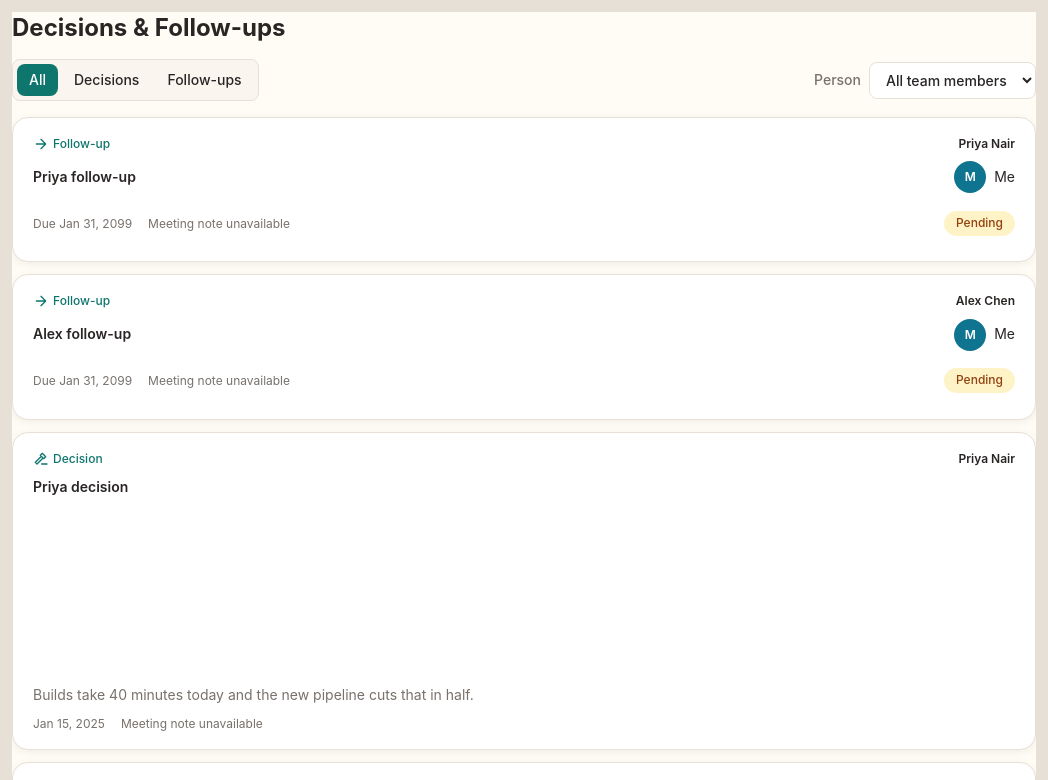
Test: DecisionsGlobalView › marks a follow-up done from the page
Click the button with aria-label "Mark as done": (980, 381) [944,359,1015,403]
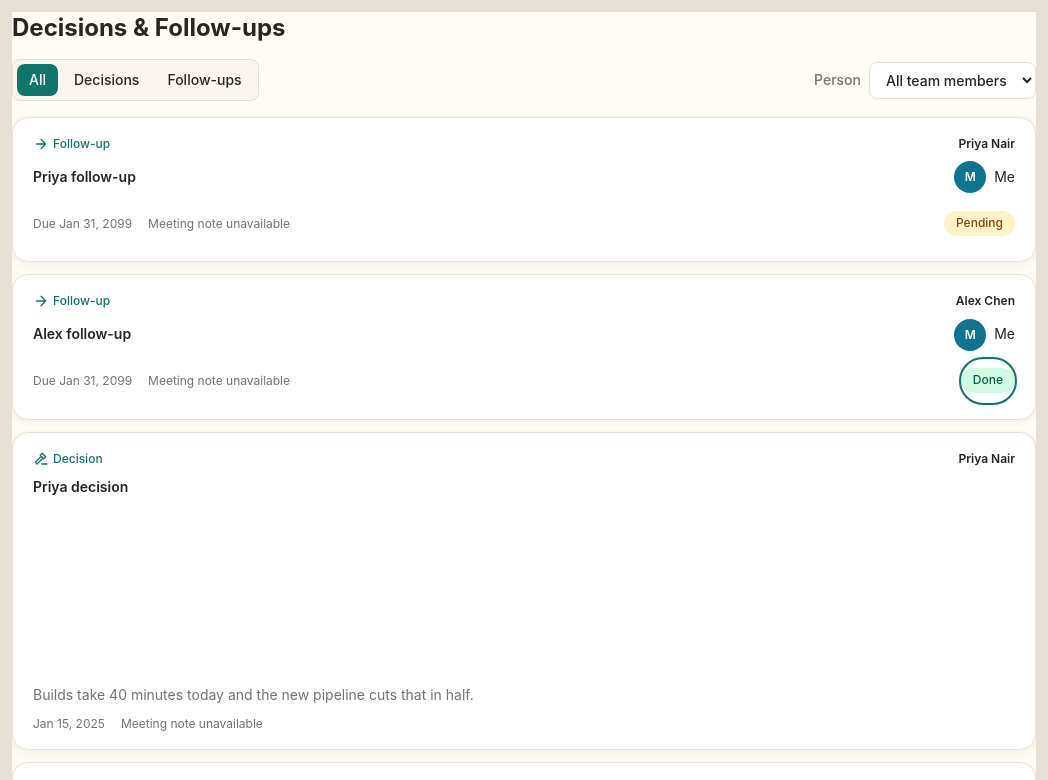
Now the button with aria-label "Mark as pending" is shown, box [961,359,1015,403]
